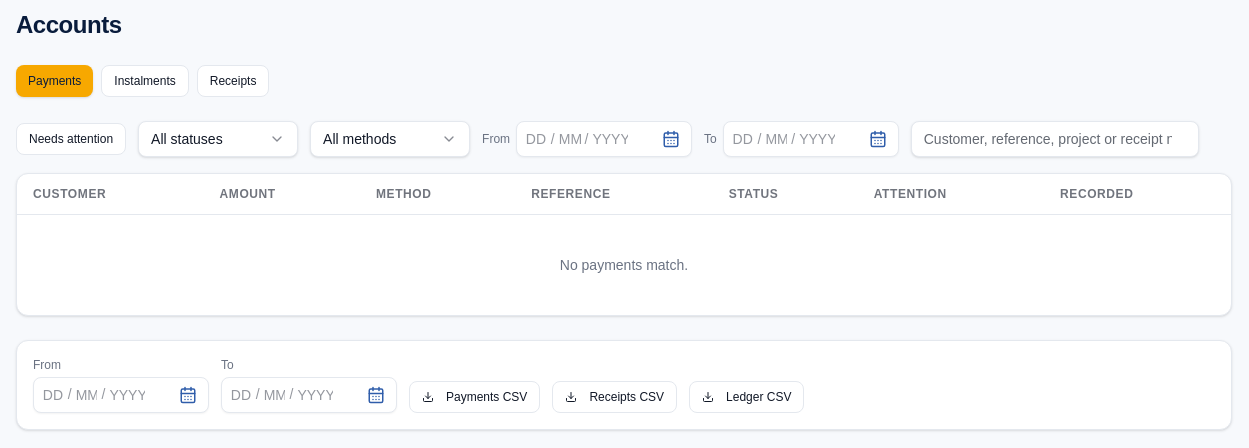
Test case: Accounts workspace — rows say who the customer is (customer_name, project_reference_id) › instalments tab: falls back to the old project link when the backend sends no name
The width and height of the screenshot is (1249, 448).
Click the tab "Instalments". click: (145, 81)
box: top-left (101, 65), bottom-right (189, 97)
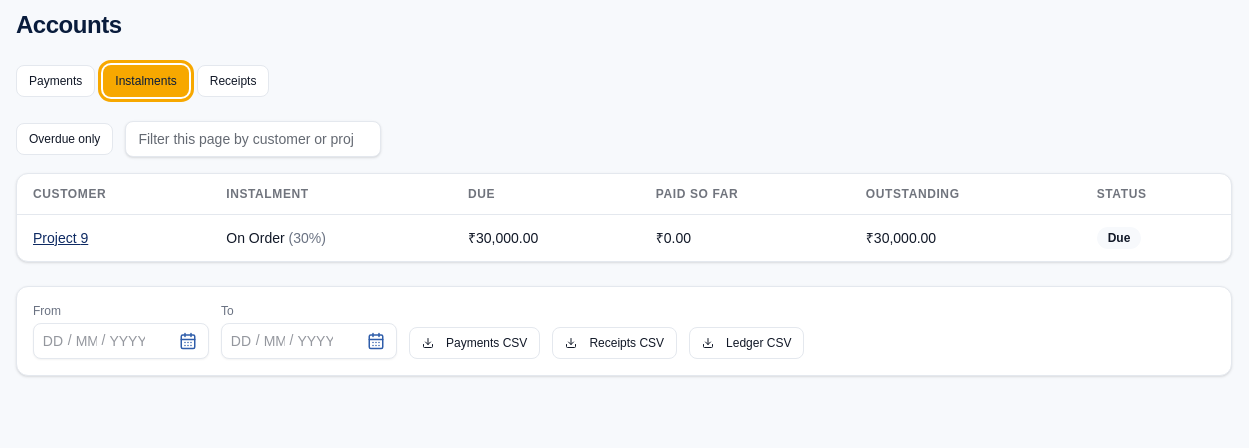
Now the link "Project 9" is shown, box top-left (33, 230), bottom-right (88, 246)
